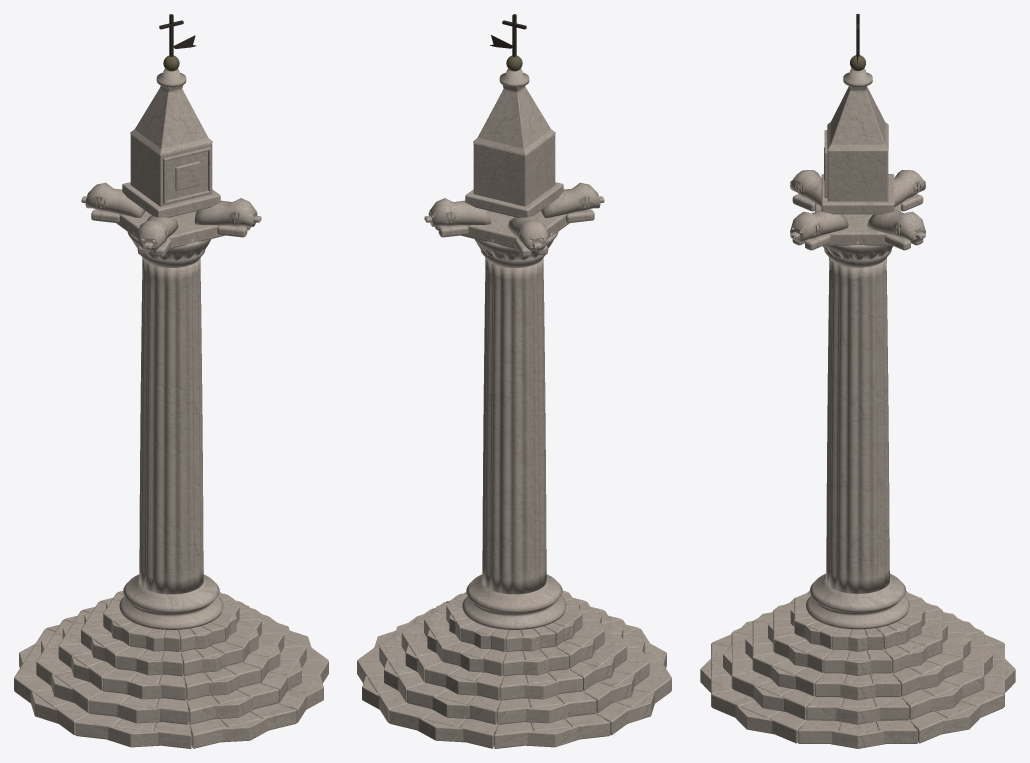
The model's file is rollo_vadocondes.glb.
3 views of the same model, side by side, from view 1: azimuth 30°, elevation 25°; view 2: azimuth 150°, elevation 25°; view 3: azimuth 270°, elevation 25° (orthographic).
Parts seen in each view (by area): view 1: piedra_vadocondes_CC0_export; view 2: piedra_vadocondes_CC0_export; view 3: piedra_vadocondes_CC0_export.
Boxes of the visible parts, <box> form: piedra_vadocondes_CC0_export: <box>14,68,328,748</box>; piedra_vadocondes_CC0_export: <box>357,68,671,748</box>; piedra_vadocondes_CC0_export: <box>700,68,1015,748</box>.
Size of the model in its own units: 4.06 by 9.49 by 4.06.
3 materials, 1 textured.
